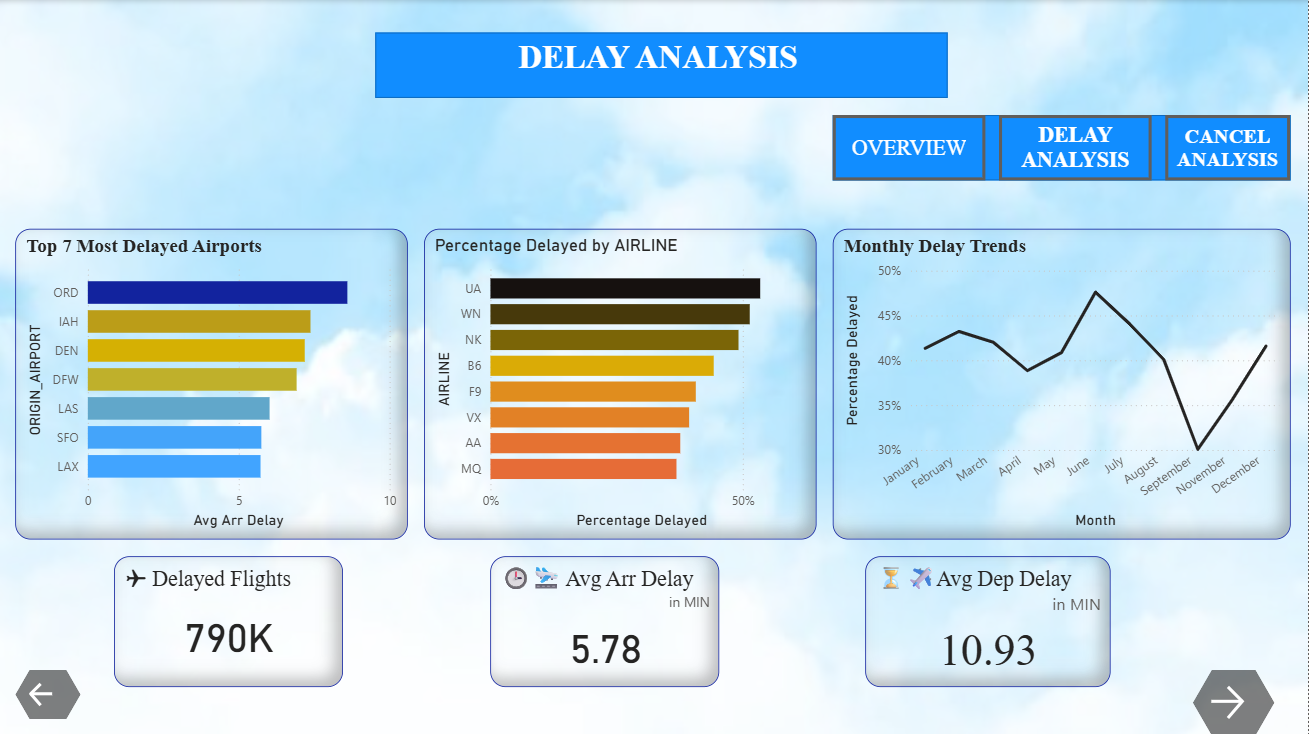

This screenshot's page, from the dashboard's own definition file:
{"tool":"powerbi","page":{"name":"Page 2","canvas":[1280,720],"ordinal":1},"visuals":[{"type":"shape","box":[368,32,560,64],"z":0},{"type":"textbox","box":[112,32,1056,144],"z":1000},{"type":"clusteredBarChart","title":"Top 7 Most Delayed Airports","fields":{"Y":["flights.Avg Arr Delay"],"Category":["flights.ORIGIN_AIRPORT"]},"box":[16,224,384,304],"z":2000},{"type":"clusteredBarChart","fields":{"Y":["Measure_table.Percentage Delayed"],"Category":["flights.AIRLINE"]},"box":[416,224,384,304],"z":3000},{"type":"lineChart","title":"Monthly Delay Trends","fields":{"Category":["Dim_Date.Date.Variation.Date Hierarchy.Quarter","Dim_Date.Date.Variation.Date Hierarchy.Month","Dim_Date.Date.Variation.Date Hierarchy.Day"],"Y":["Measure_table.Percentage Delayed"]},"box":[816,224,448,304],"z":4000},{"type":"card","title":"🕒🛬 Avg Arr Delay","fields":{"Values":["Measure_table.Avg Arr Delay"]},"box":[480,544,224,128],"z":5000},{"type":"card","title":"⏳✈️Avg Dep Delay","fields":{"Values":["Measure_table.Avg Dep Delay"]},"box":[848,544,240,128],"z":6000},{"type":"actionButton","box":[16,656,64,48],"z":7000},{"type":"actionButton","box":[1168,656,80,64],"z":8000},{"type":"card","title":"✈ Delayed Flights","fields":{"Values":["Measure_table.Delayed Flights"]},"box":[112,544,224,128],"z":9000},{"type":"shape","box":[816,112,448,64],"z":11000},{"type":"group","id":"g1","title":"Group 1","box":[816,112,448,64],"z":12000},{"type":"actionButton","box":[978.9,112,149.3,64],"z":14000,"group":"g1"},{"type":"actionButton","title":"OVERVIEW","box":[816,112,149.3,64],"z":15000,"group":"g1"},{"type":"actionButton","box":[1141.8,112,122.2,64],"z":16000,"group":"g1"}]}

Visuals, with their boxes in screenshot pixels (x1, y1, x2, y2), scaled from the page's 1280x720 canvas onto the 1309x734 screenshot:
shape: rect(376, 33, 949, 98)
textbox: rect(115, 33, 1194, 179)
"Top 7 Most Delayed Airports" clusteredBarChart: rect(16, 228, 409, 538)
clusteredBarChart - Measure_table.Percentage Delayed x flights.AIRLINE: rect(425, 228, 818, 538)
"Monthly Delay Trends" lineChart: rect(834, 228, 1293, 538)
"🕒🛬 Avg Arr Delay" card: rect(491, 555, 720, 685)
"⏳✈️Avg Dep Delay" card: rect(867, 555, 1113, 685)
actionButton: rect(16, 669, 82, 718)
actionButton: rect(1194, 669, 1276, 733)
"✈ Delayed Flights" card: rect(115, 555, 344, 685)
shape: rect(834, 114, 1293, 179)
"Group 1" group: rect(834, 114, 1293, 179)
actionButton: rect(1001, 114, 1154, 179)
"OVERVIEW" actionButton: rect(834, 114, 987, 179)
actionButton: rect(1168, 114, 1293, 179)
